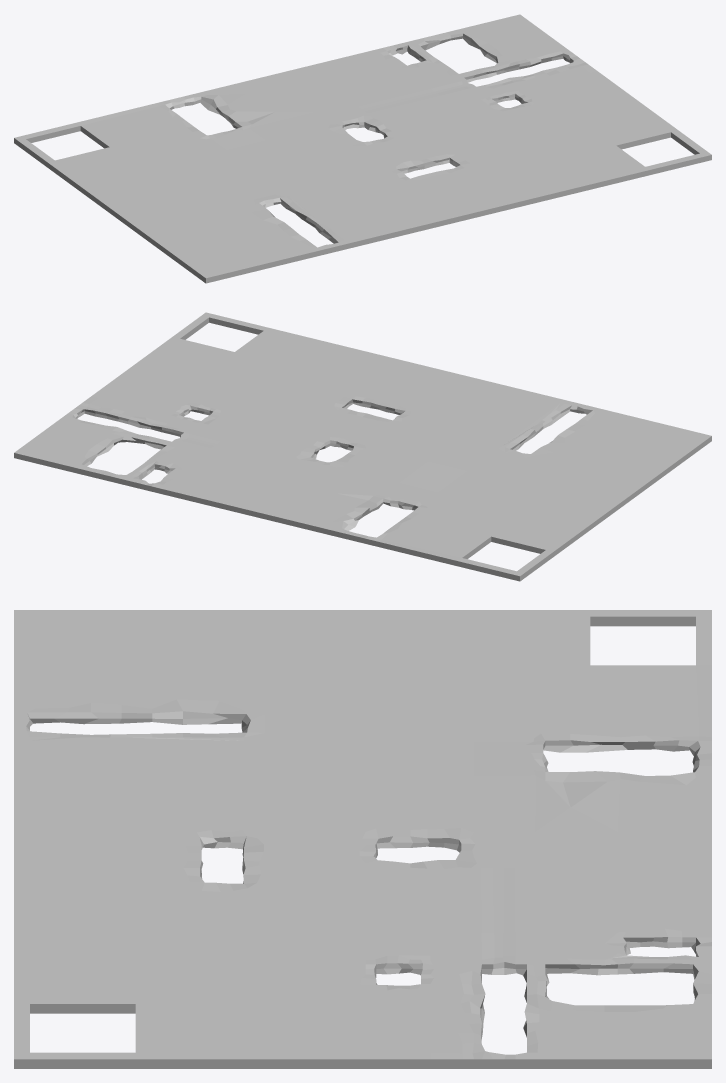
The model's file is Fixed Mesh 13.fbx.
3 views of the same model, one above another, from view 1: azimuth 30°, elevation 25°; view 2: azimuth 150°, elevation 25°; view 3: azimuth 270°, elevation 25° (orthographic). The views are drawn at different scales.
Parts seen in each view (by area): view 1: Floor; view 2: Floor; view 3: Floor.
Part boxes in pixels (bbox=[...]): Floor: bbox=[14, 14, 711, 283]; Floor: bbox=[14, 312, 711, 581]; Floor: bbox=[14, 610, 711, 1068].
Bounding box in the file's own units: 4020 × 73.4 × 2640.
